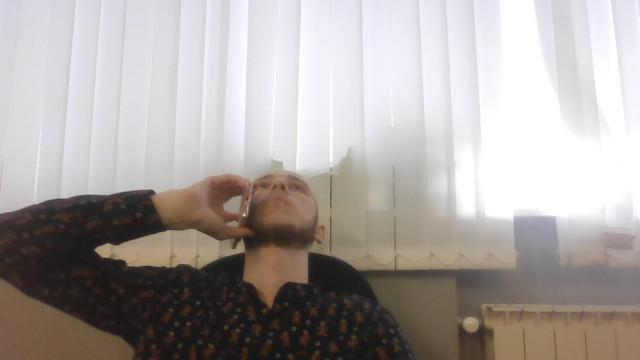PhoneUse: (230, 178, 254, 252)
